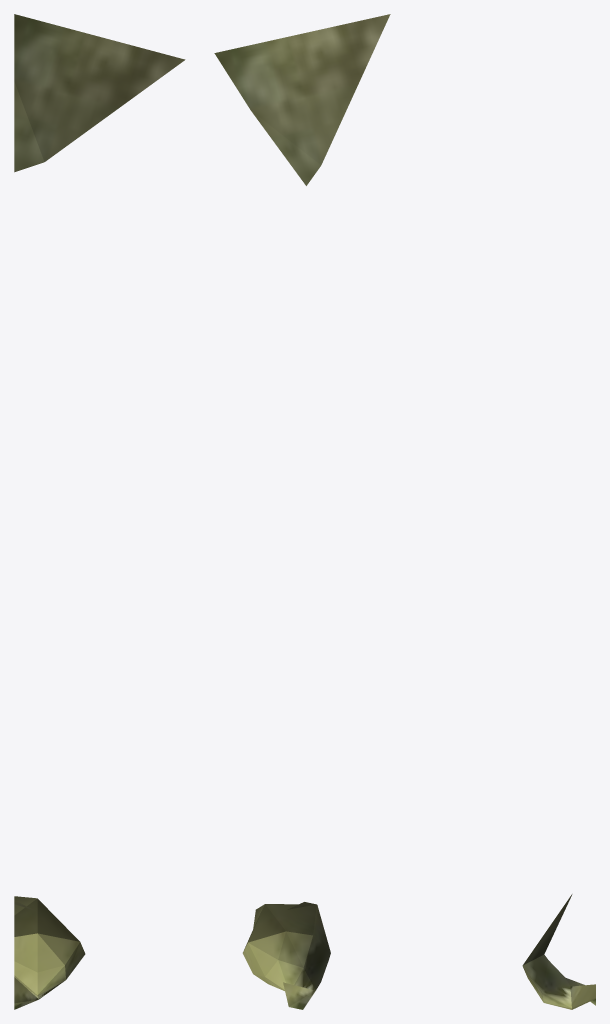
The picture shows the model from 3 angles, left to right: view 1: azimuth 90°, elevation 25°; view 2: azimuth 150°, elevation 25°; view 3: azimuth 270°, elevation 25°; orthographic projection. The views are drawn at different scales.
Bounding box in the file's own units: 0.2907 × 2.82 × 0.4606.
1 material, 1 textured.
